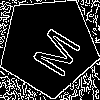M: (23, 21, 83, 80)
